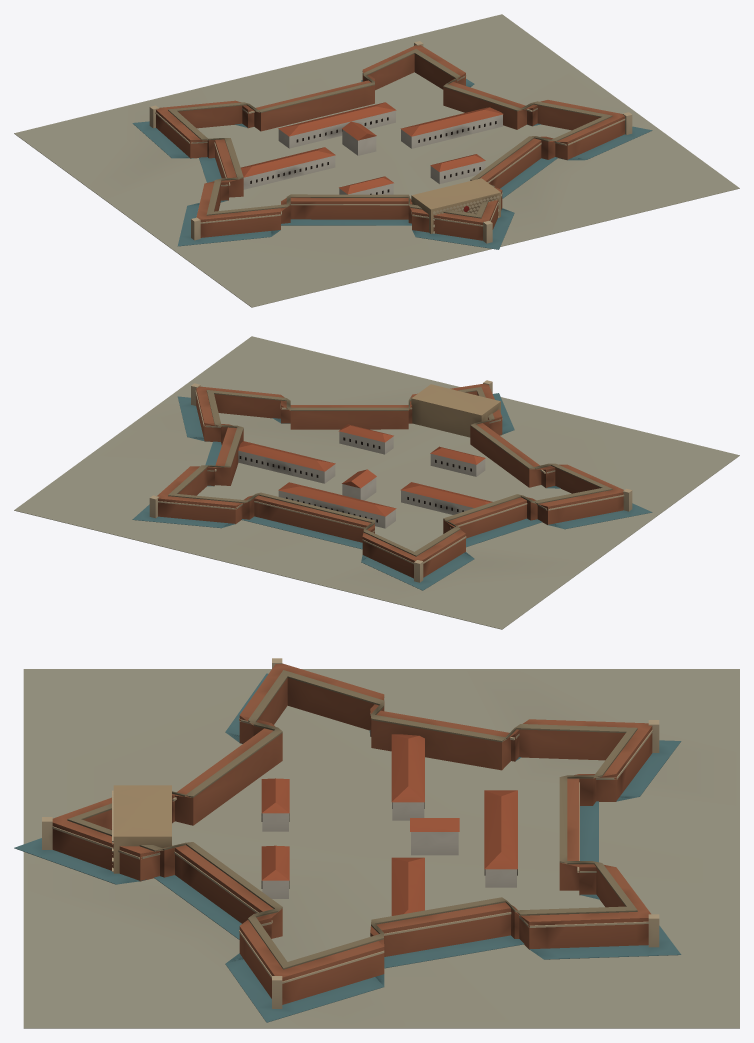
Rendered from fortezza-da-basso.glb.
The picture shows the model from 3 angles, top to bottom: view 1: azimuth 30°, elevation 25°; view 2: azimuth 150°, elevation 25°; view 3: azimuth 270°, elevation 25°; orthographic projection. The views are drawn at different scales.
Parts seen in each view (by area): view 1: p0_ground, p1_bastions, p3_barracks, p2_keep; view 2: p0_ground, p1_bastions, p3_barracks, p2_keep; view 3: p0_ground, p1_bastions, p3_barracks, p2_keep.
Part boxes in pixels (box(x1,y1,x2,y2)): p0_ground: box(14, 14, 739, 307); p1_bastions: box(149, 41, 632, 243); p3_barracks: box(241, 102, 503, 194); p2_keep: box(411, 178, 500, 233); p0_ground: box(14, 336, 739, 629); p1_bastions: box(149, 380, 632, 582); p3_barracks: box(238, 424, 492, 528); p2_keep: box(411, 384, 500, 437); p0_ground: box(14, 669, 739, 1028); p1_bastions: box(42, 658, 659, 1008); p3_barracks: box(261, 734, 517, 915); p2_keep: box(111, 785, 171, 873).
Bounding box in the file's own units: 320 × 16 × 274.
